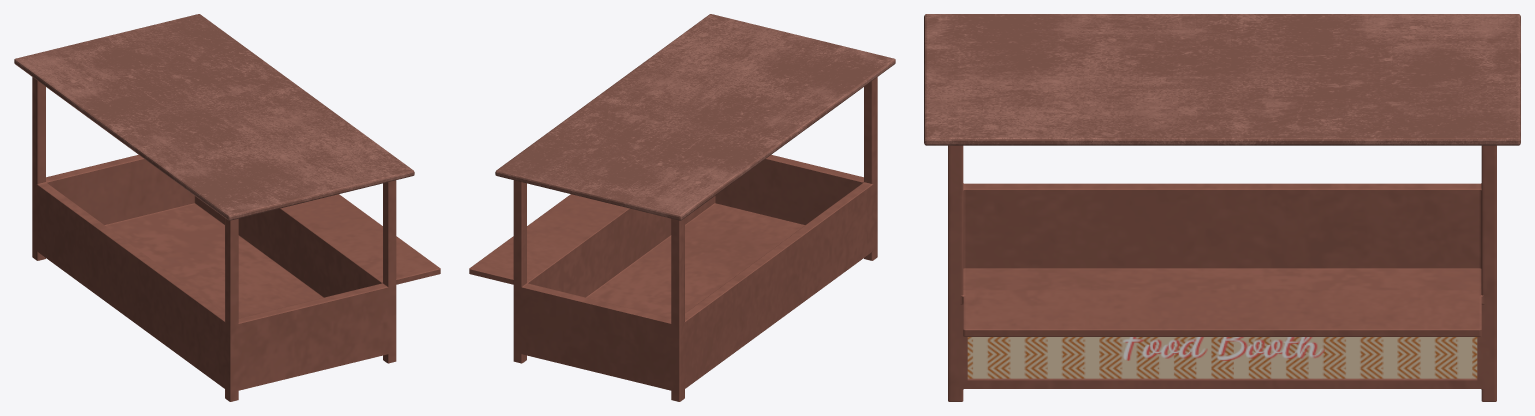
File: Food Booth2.fbx
3 renders of one model, left to right at view 1: azimuth 30°, elevation 25°; view 2: azimuth 150°, elevation 25°; view 3: azimuth 270°, elevation 25°, orthographic. The views are drawn at different scales.
Parts seen in each view (by area): view 1: Booth Body, Roof; view 2: Booth Body, Roof; view 3: Booth Body, Roof.
Boxes of the visible parts, <box> form: Booth Body: <box>32,77,440,401</box>; Roof: <box>14,14,414,220</box>; Booth Body: <box>469,77,877,401</box>; Roof: <box>495,14,895,220</box>; Booth Body: <box>948,145,1496,401</box>; Roof: <box>924,14,1520,145</box>.
Bounding box in the file's own units: 1427 × 1175 × 2352.
Materials: 2 (2 with a texture image).
